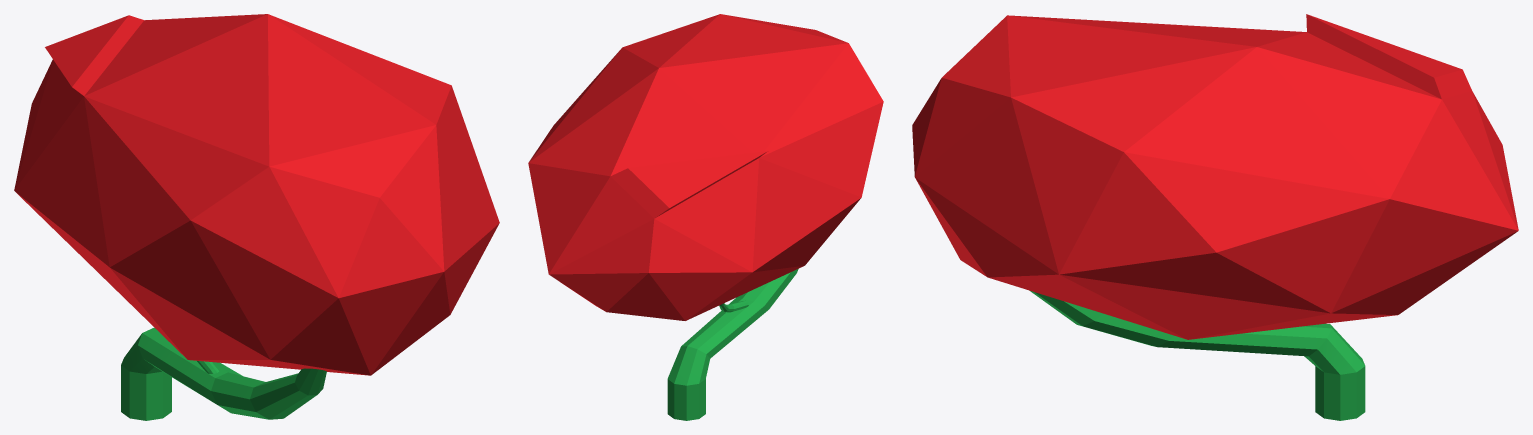
File: Bush1.obj
The picture shows the model from 3 angles, left to right: view 1: azimuth 30°, elevation 25°; view 2: azimuth 150°, elevation 25°; view 3: azimuth 270°, elevation 25°; orthographic projection. The views are drawn at different scales.
Visible parts, largest first — view 1: Cylinder; view 2: Cylinder; view 3: Cylinder.
Part boxes in pixels (x1=…): Cylinder: x1=14, y1=14, x2=499, y2=420; Cylinder: x1=528, y1=14, x2=883, y2=420; Cylinder: x1=912, y1=14, x2=1518, y2=420.
Bounding box in the file's own units: 2.08 × 2.17 × 2.97.
